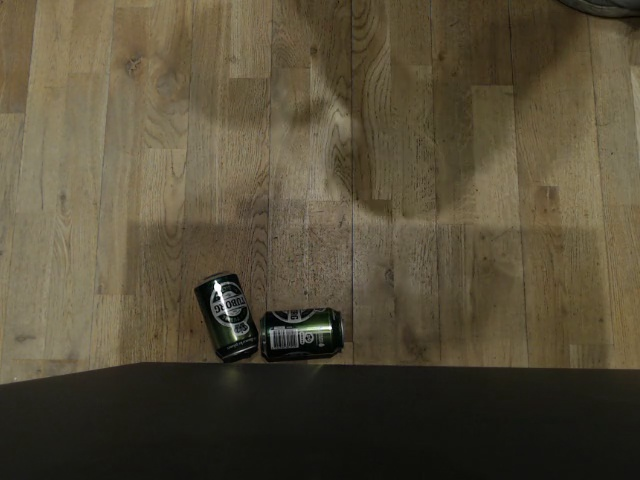beer: (195, 270, 258, 360), (259, 305, 345, 359)
